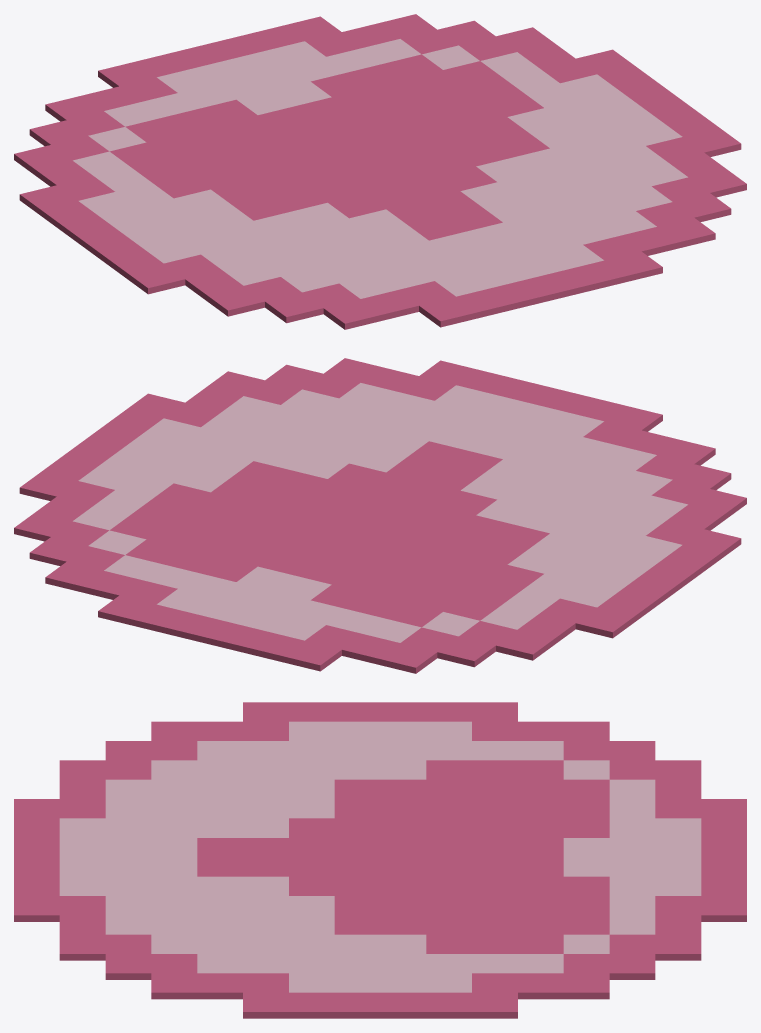
File: ncb-rug-heart.glb
The picture shows the model from 3 angles, top to bottom: view 1: azimuth 30°, elevation 25°; view 2: azimuth 150°, elevation 25°; view 3: azimuth 270°, elevation 25°; orthographic projection. The views are drawn at different scales.
Parts seen in each view (by area): view 1: box-prop; view 2: box-prop; view 3: box-prop.
Part boxes in pixels (box(x1,y1,x2,y2)): box-prop: box(14, 14, 746, 329); box-prop: box(14, 358, 746, 673); box-prop: box(14, 702, 746, 1018).
Bounding box in the file's own units: 3.04 × 0.03 × 3.04.
